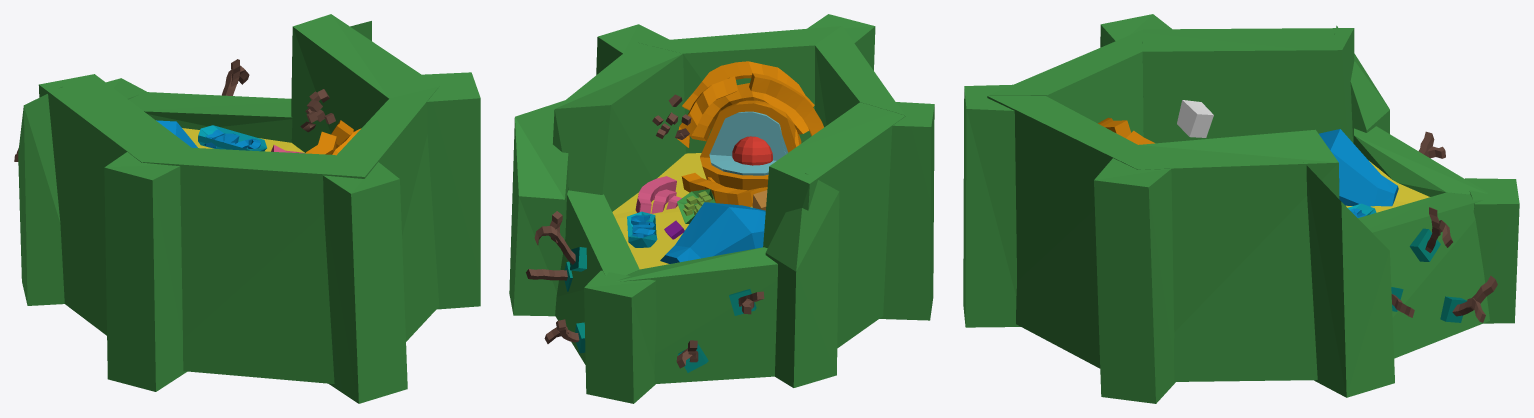
3 renders of one model, left to right at view 1: azimuth 30°, elevation 25°; view 2: azimuth 150°, elevation 25°; view 3: azimuth 270°, elevation 25°, orthographic. The views are drawn at different scales.
Parts seen in each view (by area): view 1: node_MeshObject-1151977472-PolyPaper21; view 2: node_MeshObject-1151977472-PolyPaper21; view 3: node_MeshObject-1151977472-PolyPaper21.
Boxes of the visible parts, bbox=[...] form: node_MeshObject-1151977472-PolyPaper21: bbox=[14, 14, 480, 403]; node_MeshObject-1151977472-PolyPaper21: bbox=[509, 14, 934, 403]; node_MeshObject-1151977472-PolyPaper21: bbox=[963, 14, 1519, 403].
Bounding box in the file's own units: 0.3682 × 0.2183 × 0.4737.
